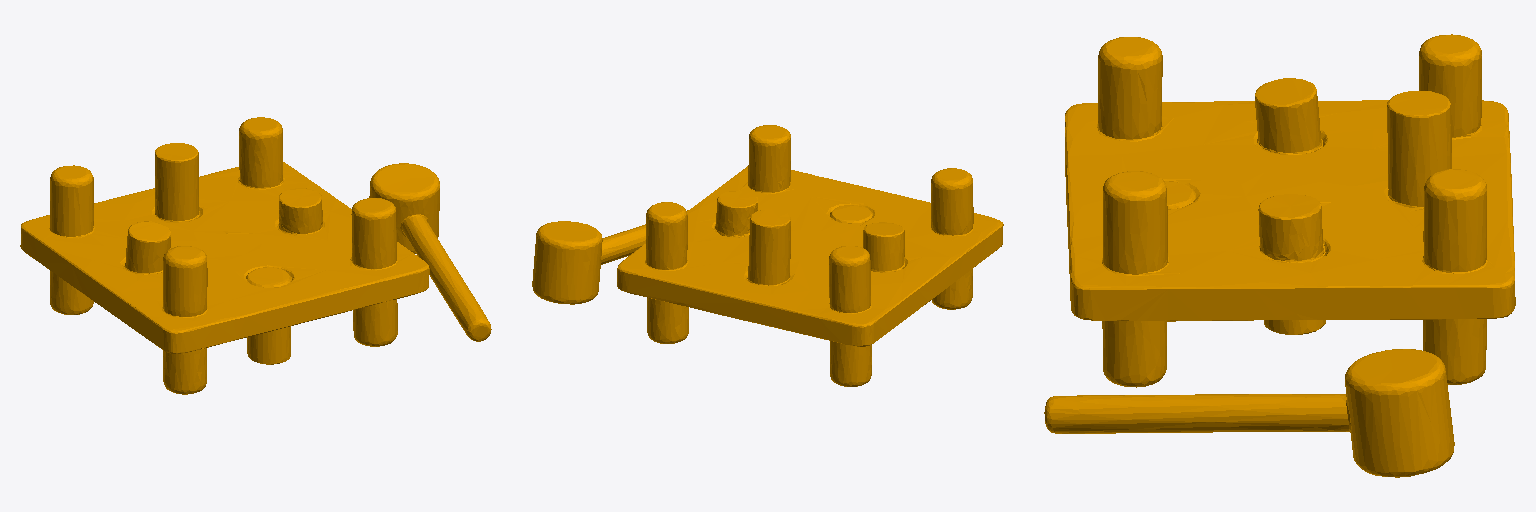
URDF robot description (HAMMER_PEG):
<?xml version="1.0" ?>
<robot name="HAMMER_PEG">
  <link name="link_0">
    <inertial>
      <origin xyz="0 0 0" rpy="0 0 0"/>
      <mass value="1.0"/>
      <inertia ixx="0.1" ixy="0.0" ixz="0.0" iyy="0.1" iyz="0.0" izz="0.1"/>
    </inertial>
    <visual name="visual">
      <origin xyz="0 0 0" rpy="0 0 0"/>
      <geometry>
        <mesh filename="meshes/model.obj"/>
      </geometry>
    </visual>
    <collision name="collision_0">
      <origin xyz="0 0 0" rpy="0 0 0"/>
      <geometry>
        <mesh filename="meshes/model.obj"/>
      </geometry>
    </collision>
  </link>
</robot>

--- What the picture shows (computed from the rendered views, not written in the file) ---
The picture shows the robot from 3 angles, left to right: view 1: azimuth 30°, elevation 25°; view 2: azimuth 150°, elevation 25°; view 3: azimuth 270°, elevation 25°; orthographic projection.
Model HAMMER_PEG with 1 links and 0 joints (none), rooted at link_0, posed every joint at zero.
Visible links, largest first — view 1: link_0; view 2: link_0; view 3: link_0.
Link boxes in pixels (box(x1,y1,x2,y2)): link_0: box(20, 117, 491, 394); link_0: box(532, 125, 1003, 386); link_0: box(1044, 34, 1515, 477).
Size in the robot's own frame: 0.2524 by 0.1856 by 0.089 metres.
1 mesh visuals loaded from 1 distinct referenced files (1 OBJ).